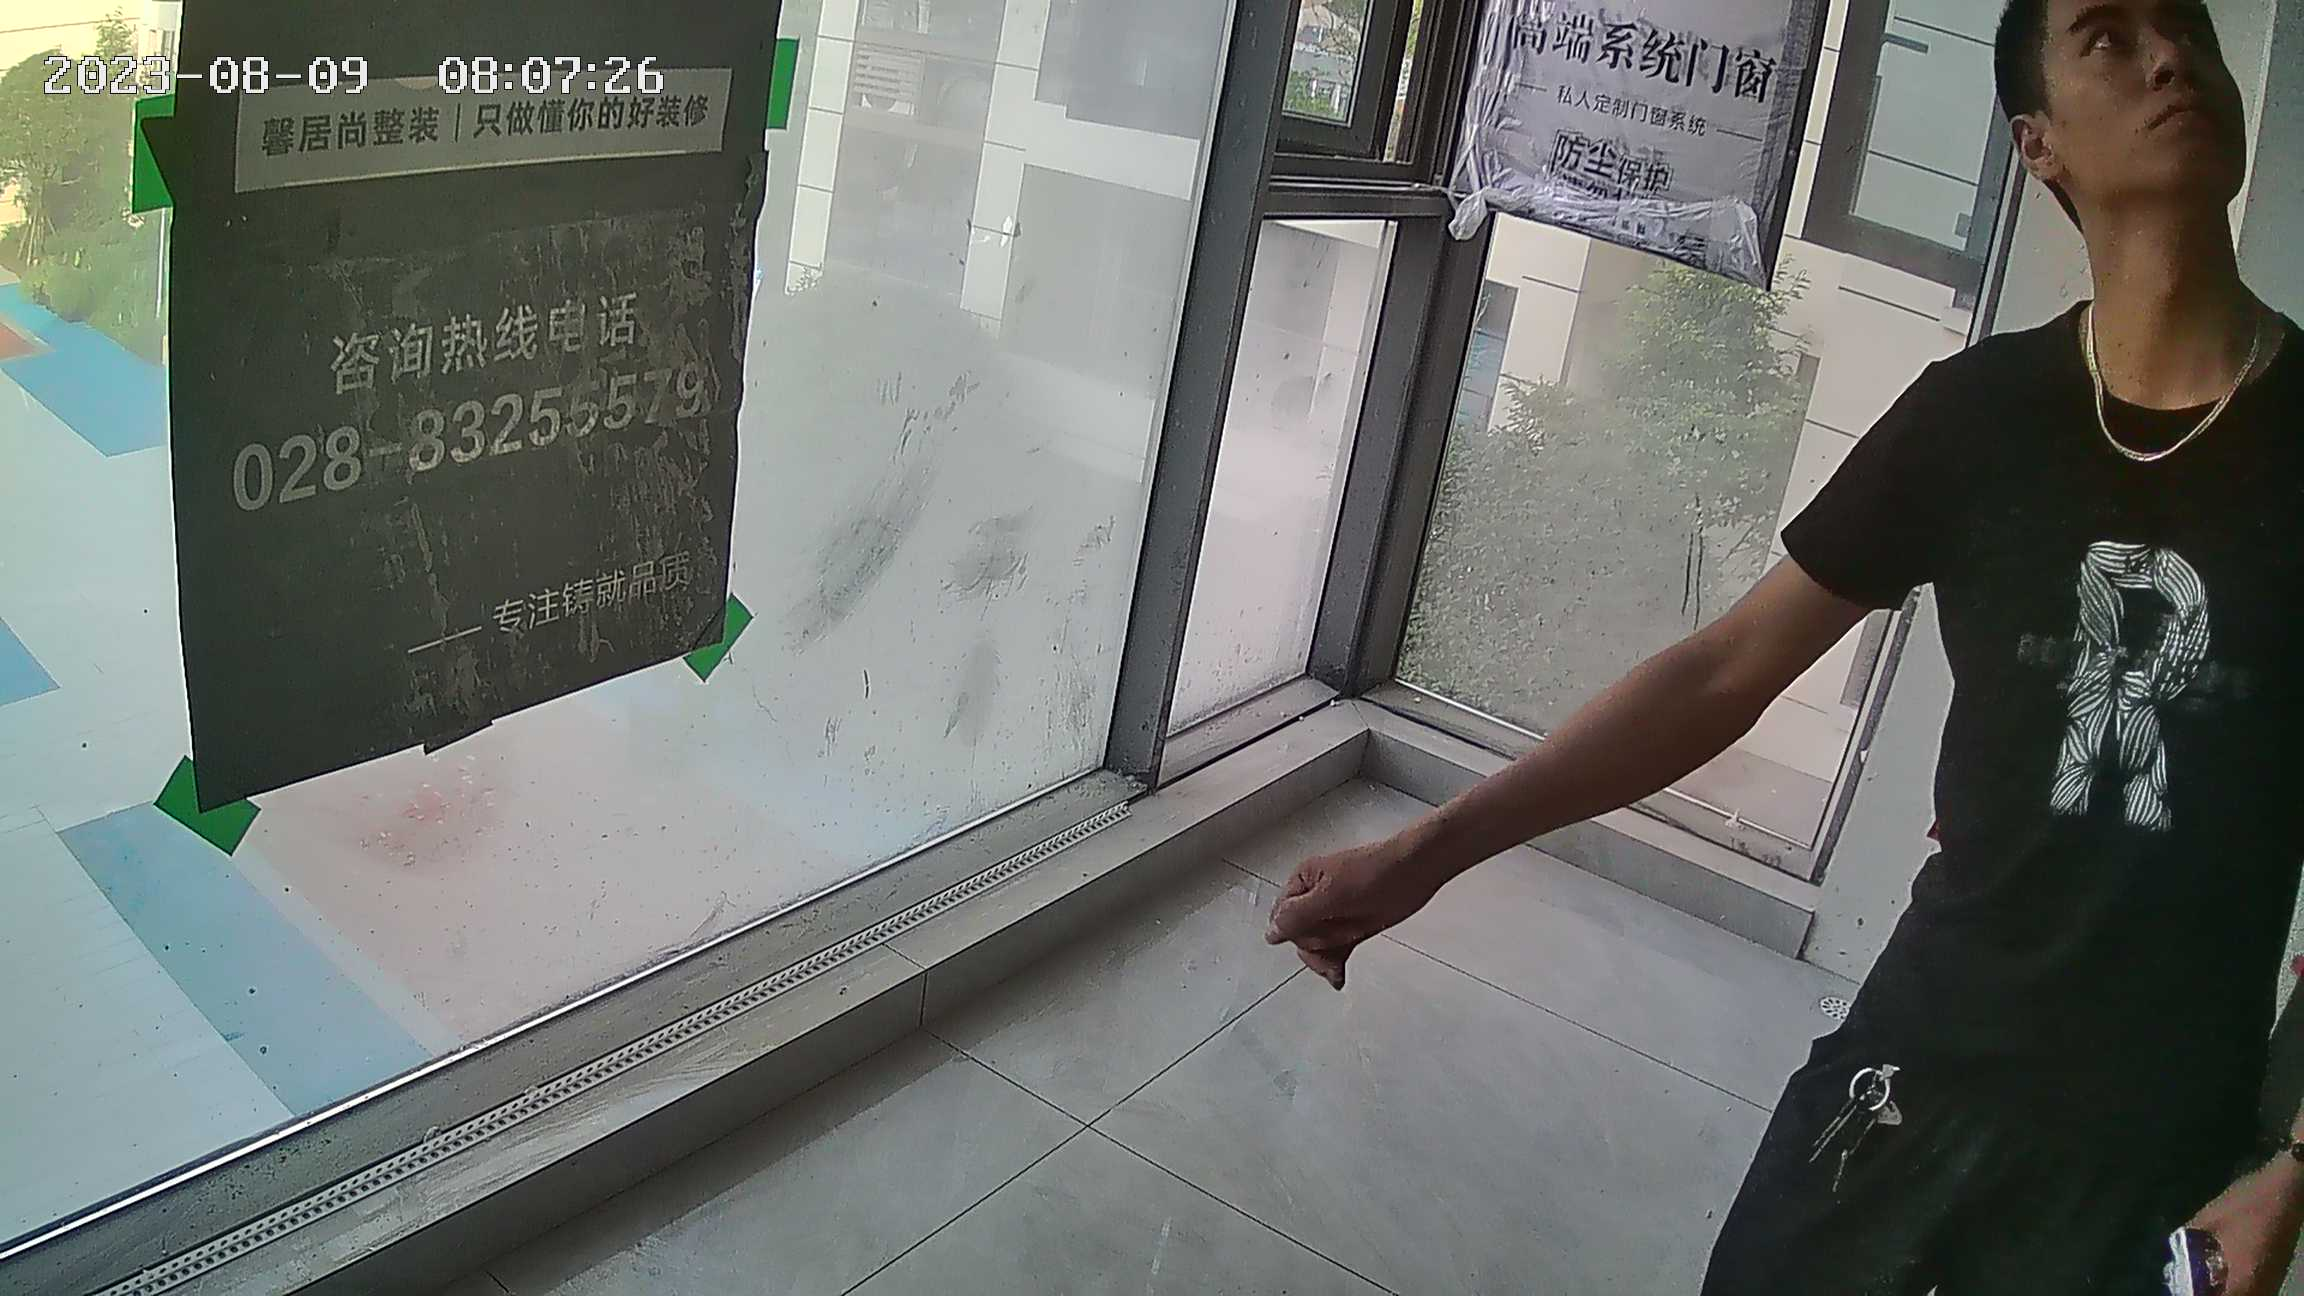people: (1686, 8, 2304, 1290)
window: (17, 1, 1937, 1255)
